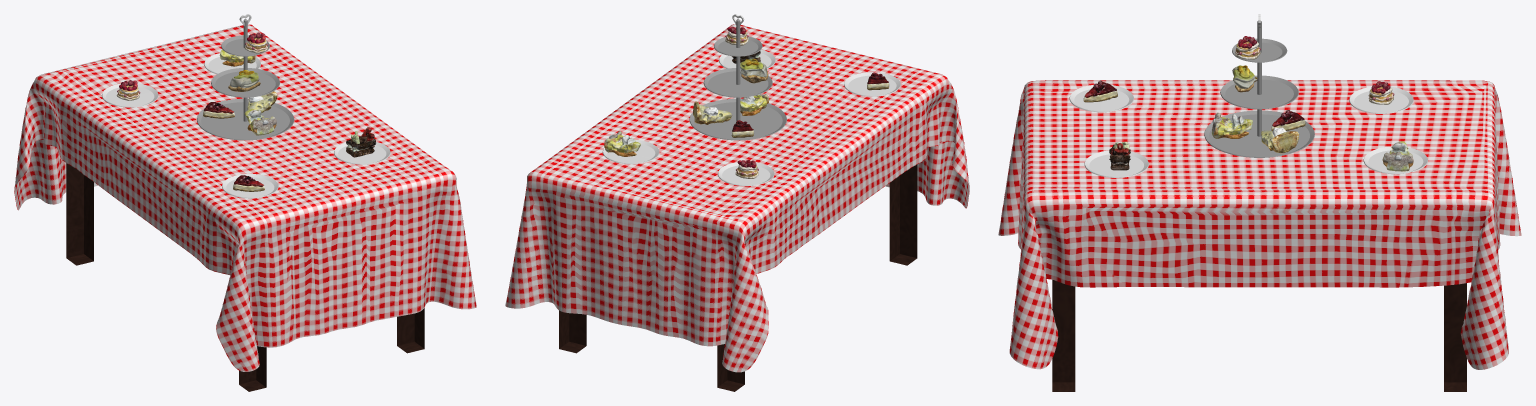
Rendered from CAkeTable.glb.
3 views of the same model, side by side, from view 1: azimuth 30°, elevation 25°; view 2: azimuth 150°, elevation 25°; view 3: azimuth 270°, elevation 25° (orthographic). The views are drawn at different scales.
Visible parts, largest first — view 1: Plane, Cube, Cube.001, Cube.006, Cube.003, Cube.004, Meshy_AI_Cocooned_Figure_0429064804_texture, Meshy_AI_Mosaic_Tooth_on_Pink_0429064422_texture, Meshy_AI_Abstract_Yellow_Facet_0429063211_texture, Cube.005, Meshy_AI_Crusty_Slipper_0429063005_texture, Meshy_AI_Cherry_Cheesecake_Sli_0429064109_texture (+1 smaller); view 2: Plane, Cube, Cube.001, Cube.003, Cube.006, Cube.005, Meshy_AI_Mosaic_Tooth_on_Pink_0429064422_texture.001, Meshy_AI_Crusty_Slipper_0429063005_texture, Meshy_AI_Abstract_Yellow_Facet_0429063211_texture, Meshy_AI_Mosaic_Tooth_on_Pink_0429064422_texture, Cube.004; view 3: Plane, Cube.001, Cube, Cube.004, Cube.006, Cube.003, Cube.005, Meshy_AI_Mosaic_Tooth_on_Pink_0429064422_texture, Meshy_AI_Crusty_Slipper_0429063005_texture, Meshy_AI_Mosaic_Tooth_on_Pink_0429064422_texture.001, Meshy_AI_Cocooned_Figure_0429064804_texture, Meshy_AI_Cherry_Cheesecake_Sli_0429064109_texture.001 (+4 smaller).
Boxes of the visible parts, <box> form: Plane: <box>14,24,476,371</box>; Cube: <box>66,163,424,391</box>; Cube.001: <box>197,18,294,140</box>; Cube.006: <box>101,83,158,107</box>; Cube.003: <box>222,174,278,198</box>; Cube.004: <box>334,141,390,164</box>; Meshy_AI_Cocooned_Figure_0429064804_texture: <box>346,127,375,157</box>; Meshy_AI_Mosaic_Tooth_on_Pink_0429064422_texture: <box>244,109,276,135</box>; Meshy_AI_Abstract_Yellow_Facet_0429063211_texture: <box>228,70,260,91</box>; Cube.005: <box>204,53,260,74</box>; Meshy_AI_Crusty_Slipper_0429063005_texture: <box>247,91,277,112</box>; Meshy_AI_Cherry_Cheesecake_Sli_0429064109_texture: <box>203,102,234,118</box>; Plane: <box>505,24,969,372</box>; Cube: <box>559,164,917,391</box>; Cube.001: <box>689,18,786,140</box>; Cube.003: <box>844,72,900,96</box>; Cube.006: <box>718,162,774,186</box>; Cube.005: <box>602,139,659,164</box>; Meshy_AI_Mosaic_Tooth_on_Pink_0429064422_texture.001: <box>604,131,640,156</box>; Meshy_AI_Crusty_Slipper_0429063005_texture: <box>693,101,732,124</box>; Meshy_AI_Abstract_Yellow_Facet_0429063211_texture: <box>740,58,768,83</box>; Meshy_AI_Mosaic_Tooth_on_Pink_0429064422_texture: <box>740,94,769,115</box>; Cube.004: <box>719,49,775,68</box>; Plane: <box>998,80,1521,369</box>; Cube.001: <box>1204,21,1314,157</box>; Cube: <box>1052,280,1466,391</box>; Cube.004: <box>1084,150,1148,177</box>; Cube.006: <box>1349,86,1413,113</box>; Cube.003: <box>1069,85,1133,112</box>; Cube.005: <box>1363,146,1427,174</box>; Meshy_AI_Mosaic_Tooth_on_Pink_0429064422_texture: <box>1211,112,1252,138</box>; Meshy_AI_Crusty_Slipper_0429063005_texture: <box>1261,127,1299,153</box>; Meshy_AI_Mosaic_Tooth_on_Pink_0429064422_texture.001: <box>1382,141,1413,171</box>; Meshy_AI_Cocooned_Figure_0429064804_texture: <box>1109,141,1130,170</box>; Meshy_AI_Cherry_Cheesecake_Sli_0429064109_texture.001: <box>1083,80,1117,102</box>.
Bounding box in the file's own units: 1.48 × 1.57 × 2.27.
Materials: 10 (8 with a texture image).
